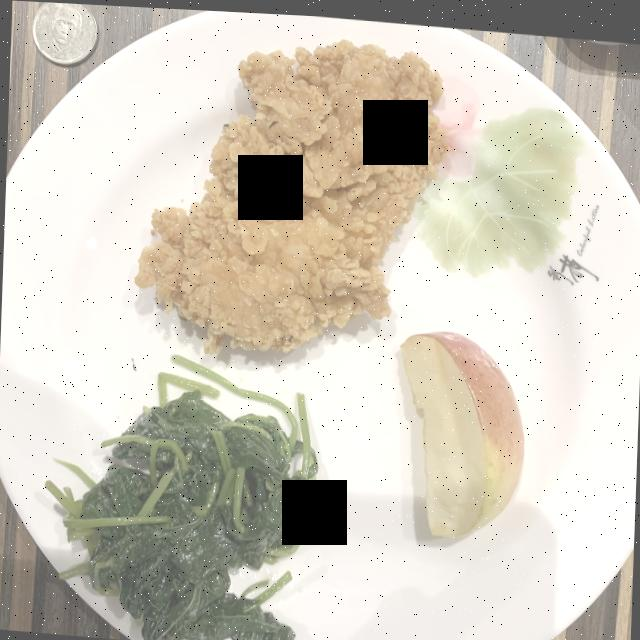apple -sliced-: (399, 326, 523, 531)
coin: (31, 2, 96, 64)
fried chicken cutlet: (135, 36, 447, 350)
sweet potato leaves: (44, 354, 317, 640)
